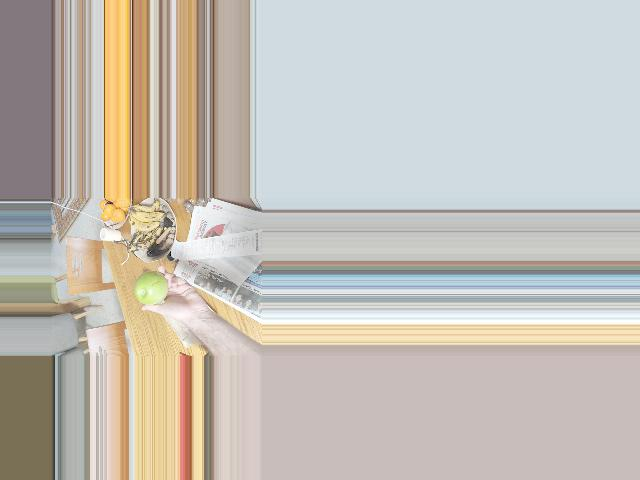apple: (131, 270, 170, 309)
